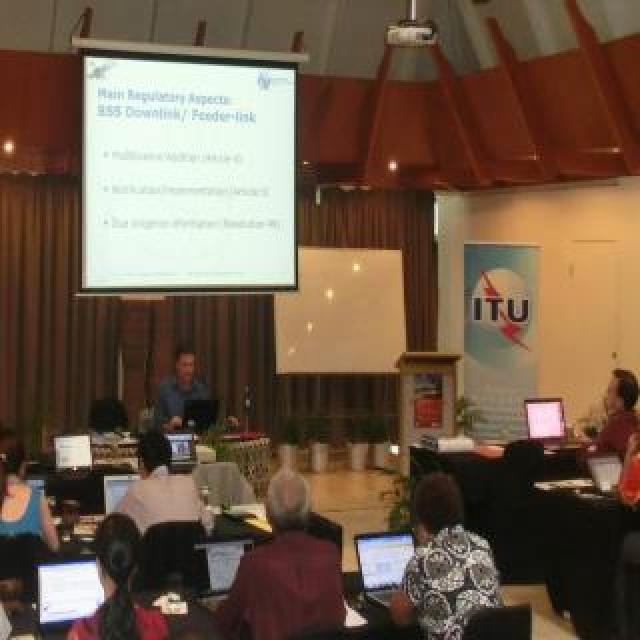laptop_computer: (32, 559, 106, 621), (196, 532, 264, 596), (353, 532, 425, 592), (512, 386, 568, 454), (50, 427, 105, 494), (175, 395, 238, 448), (590, 445, 633, 510), (155, 426, 200, 475)
